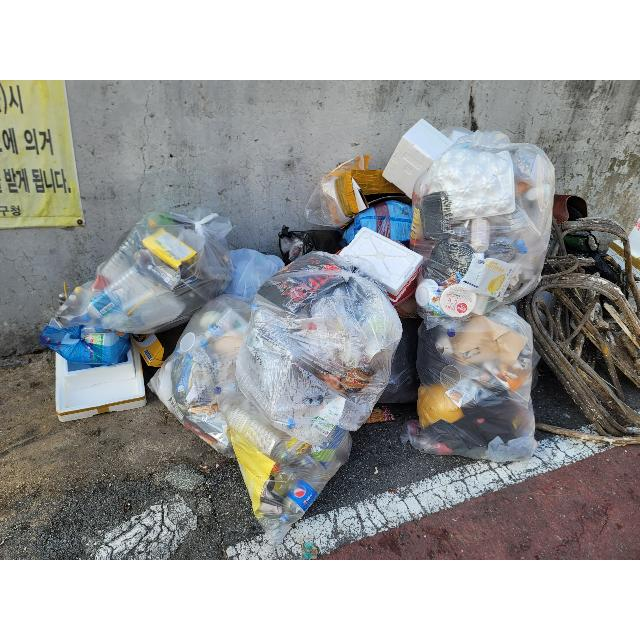other_trashbag: (236, 251, 401, 446), (410, 131, 555, 320), (215, 380, 351, 546), (55, 208, 234, 334), (401, 306, 538, 462), (150, 295, 250, 458), (40, 320, 131, 365), (391, 218, 392, 220)
